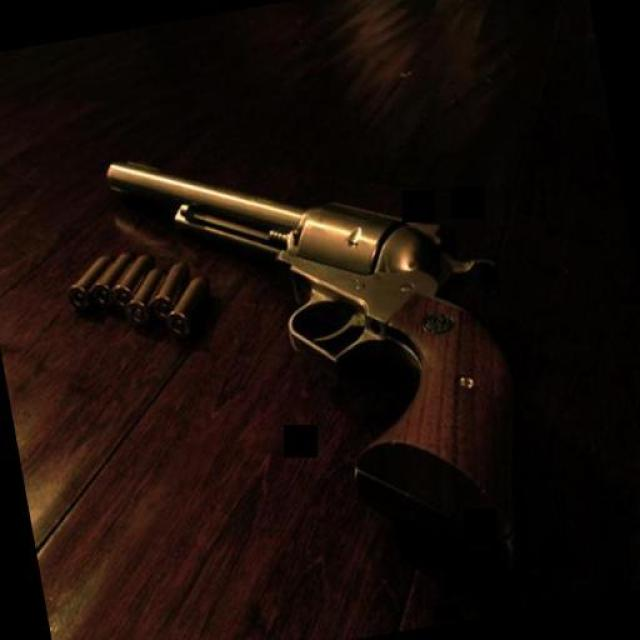gun: (98, 94, 538, 624)
